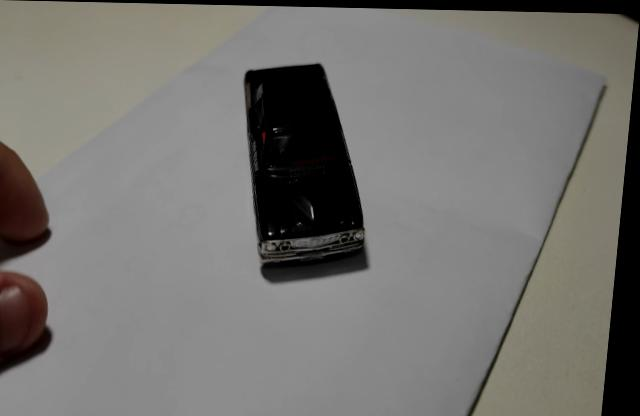01_FORD: (244, 62, 371, 263)
